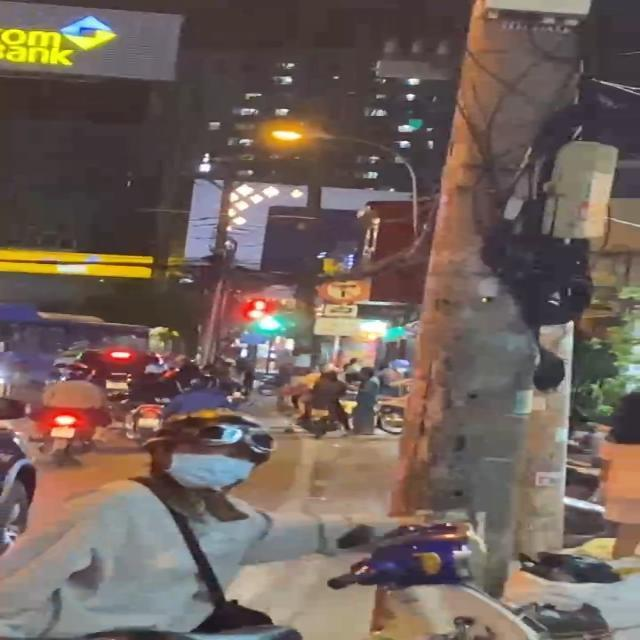137-cam-re-trai-va-re-phai: (319, 272, 369, 304)
